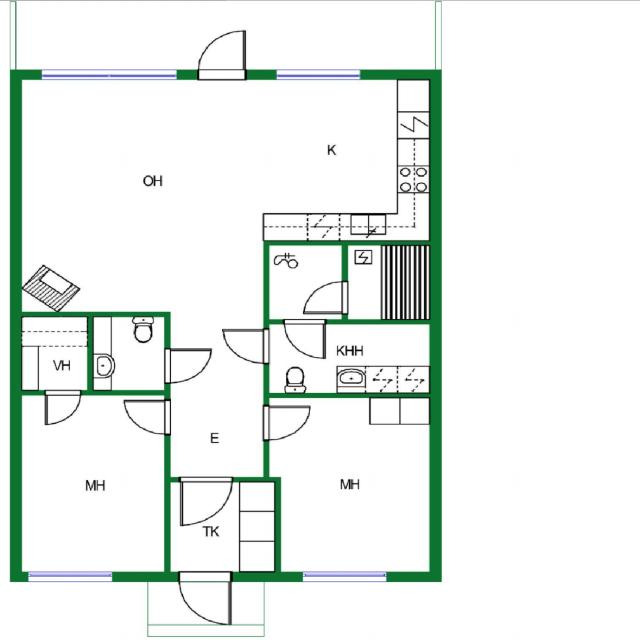door: (178, 572, 230, 624), (180, 477, 231, 525), (198, 31, 244, 79), (263, 405, 310, 440), (164, 349, 212, 383), (123, 400, 170, 434), (282, 320, 324, 358), (223, 330, 268, 363), (304, 281, 347, 313), (45, 390, 80, 424)
